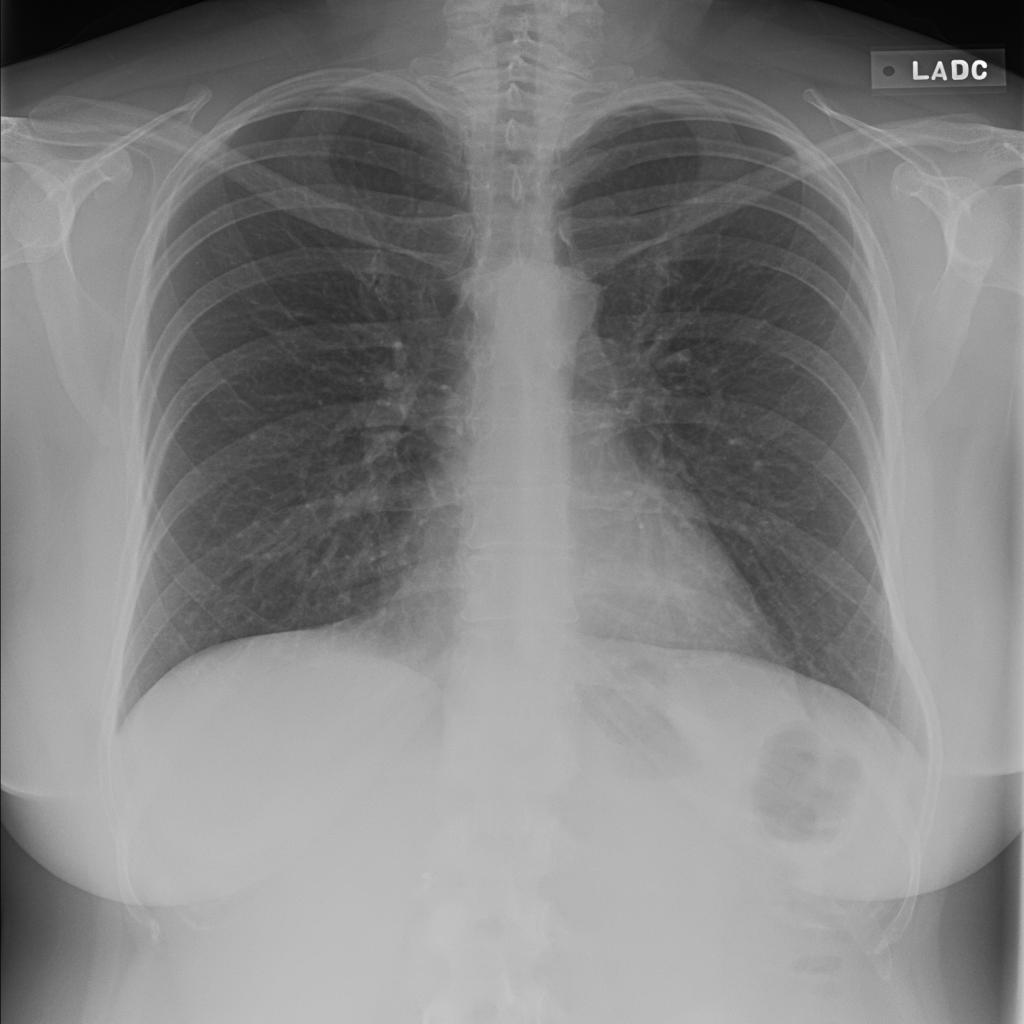Nodule: (197, 126, 253, 158), (209, 100, 242, 122)
